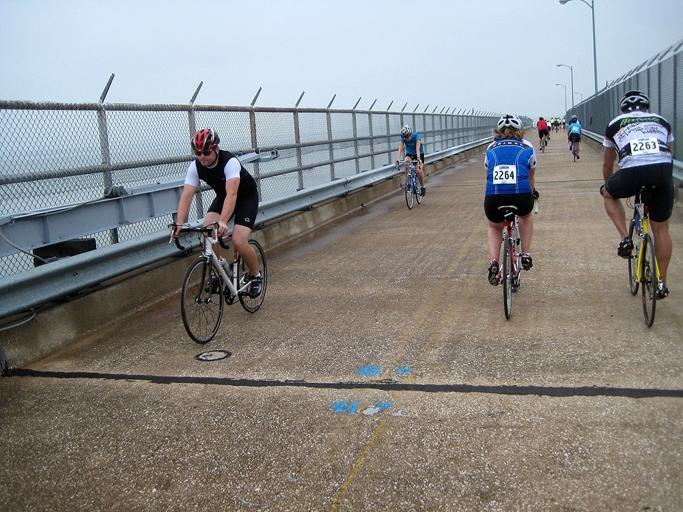non-vehicle: (166, 221, 267, 343), (598, 180, 663, 329), (497, 189, 538, 319), (395, 158, 423, 208), (567, 136, 577, 161), (539, 132, 548, 152)
